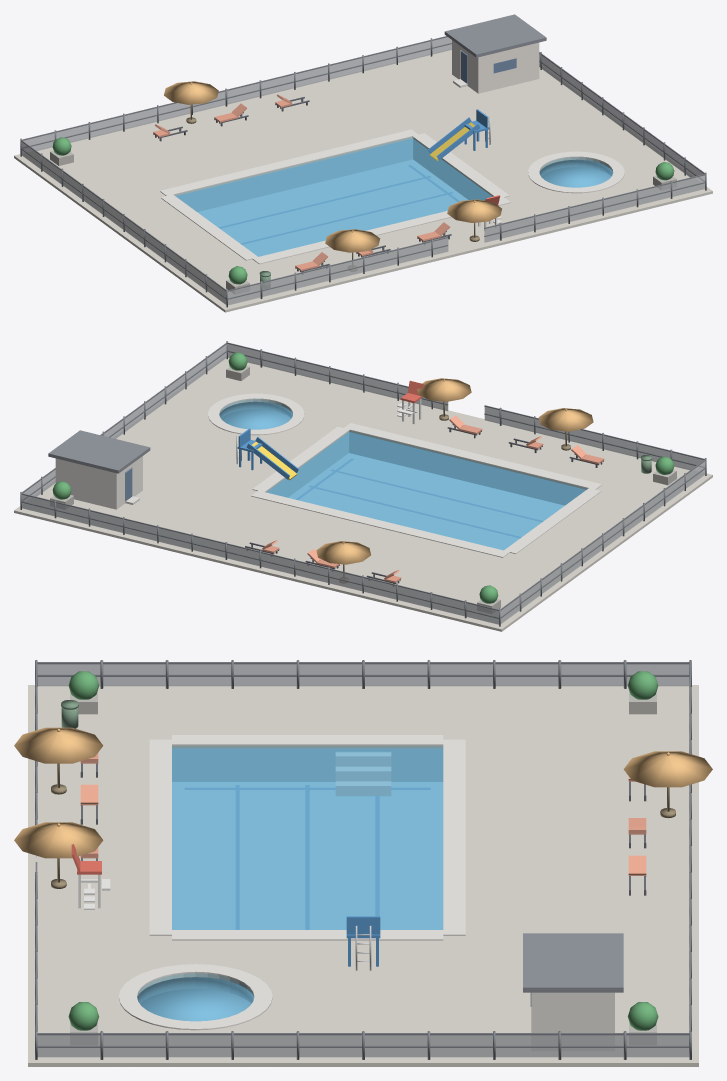
File: kolam-renang-blender-v1.glb
3 renders of one model, top to bottom at view 1: azimuth 30°, elevation 25°; view 2: azimuth 150°, elevation 25°; view 3: azimuth 270°, elevation 25°, orthographic. The views are drawn at different scales.
Parts seen in each view (by area): view 1: Kolam_Deck, Kolam_Pooltile, Kolam_Water, Kolam_Fencemesh, Kolam_Fencemetal, Kolam_Umbcanopy, Kolam_Buildwalls, Kolam_Buildroof, Kolam_Slide, Kolam_Loungerfabric, Kolam_Plants, Kolam_Planters (+2 smaller); view 2: Kolam_Deck, Kolam_Pooltile, Kolam_Water, Kolam_Fencemesh, Kolam_Fencemetal, Kolam_Umbcanopy, Kolam_Buildwalls, Kolam_Buildroof, Kolam_Slide, Kolam_Loungerfabric, Kolam_Plants, Kolam_Planters (+3 smaller); view 3: Kolam_Deck, Kolam_Pooltile, Kolam_Water, Kolam_Fencemesh, Kolam_Fencemetal, Kolam_Umbcanopy, Kolam_Buildroof, Kolam_Buildwalls, Kolam_Plants, Kolam_Planters, Kolam_Lanelines, Kolam_Loungerfabric (+2 smaller).
Boxes of the visible parts, x1,y1,x2,y2 form: Kolam_Deck: (14,49,712,312); Kolam_Pooltile: (160,129,624,264); Kolam_Water: (176,138,612,256); Kolam_Fencemesh: (21,37,705,305); Kolam_Fencemetal: (20,36,706,307); Kolam_Umbcanopy: (164,81,501,252); Kolam_Buildwalls: (452,40,539,93); Kolam_Buildroof: (444,14,546,57); Kolam_Slide: (428,109,490,160); Kolam_Loungerfabric: (153,94,450,271); Kolam_Plants: (52,137,674,284); Kolam_Planters: (50,151,676,293); Kolam_Deck: (14,356,712,631); Kolam_Pooltile: (208,393,602,557); Kolam_Water: (219,401,585,550); Kolam_Fencemesh: (21,344,705,624); Kolam_Fencemetal: (20,341,706,626); Kolam_Umbcanopy: (316,378,593,564); Kolam_Buildwalls: (55,456,142,509); Kolam_Buildroof: (48,430,150,473); Kolam_Slide: (236,428,298,480); Kolam_Loungerfabric: (262,415,604,582); Kolam_Plants: (52,352,674,603); Kolam_Planters: (50,366,676,613); Kolam_Deck: (28,685,698,1066); Kolam_Pooltile: (119,735,465,1030); Kolam_Water: (137,748,443,1021); Kolam_Fencemesh: (36,664,689,1057); Kolam_Fencemetal: (35,660,691,1059); Kolam_Umbcanopy: (14,727,712,858); Kolam_Buildroof: (523,933,623,992); Kolam_Buildwalls: (531,992,614,1050); Kolam_Plants: (68,671,658,1030); Kolam_Planters: (70,690,656,1044); Kolam_Lanelines: (185,785,429,929); Kolam_Loungerfabric: (80,753,646,875).
Bounding box in the file's own units: 32 × 4.3 × 25.
